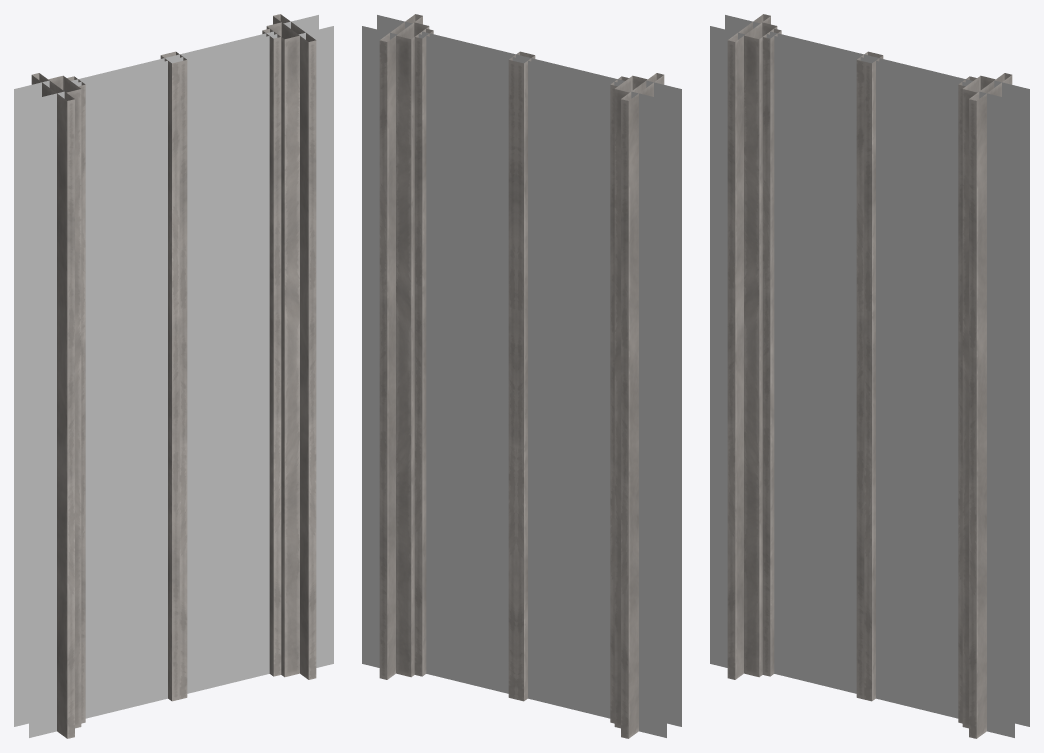
The model's file is Wall_Window_E_D.fbx.
3 renders of one model, left to right at view 1: azimuth 30°, elevation 25°; view 2: azimuth 150°, elevation 25°; view 3: azimuth 330°, elevation 25°, orthographic.
Parts seen in each view (by area): view 1: Wall_Window_E_D; view 2: Wall_Window_E_D; view 3: Wall_Window_E_D.
Part boxes in pixels (bbox=[...]): Wall_Window_E_D: bbox=[14, 14, 333, 738]; Wall_Window_E_D: bbox=[362, 14, 681, 738]; Wall_Window_E_D: bbox=[710, 14, 1029, 738].
Size of the model in its own units: 3 by 0.6115 by 6.
